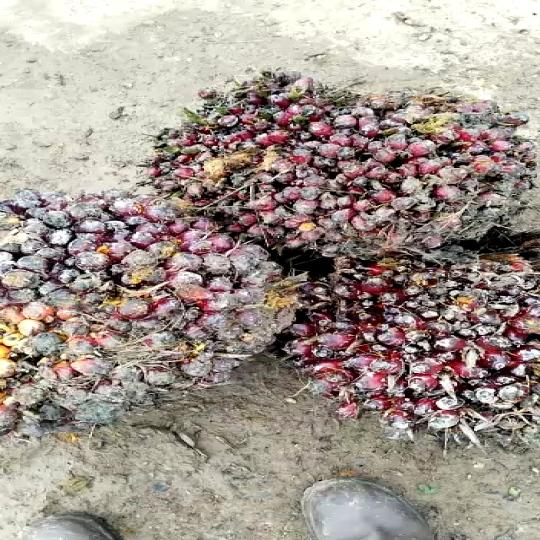kurang masak: (0, 190, 288, 458), (142, 66, 540, 247), (287, 242, 540, 453)
